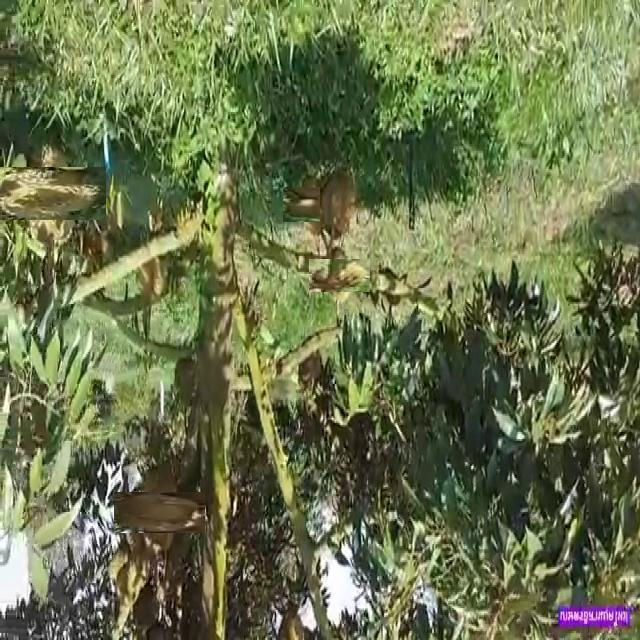durian: (8, 152, 92, 236), (126, 479, 193, 545), (134, 220, 167, 302), (320, 166, 356, 238), (290, 179, 339, 229), (316, 252, 363, 298)
